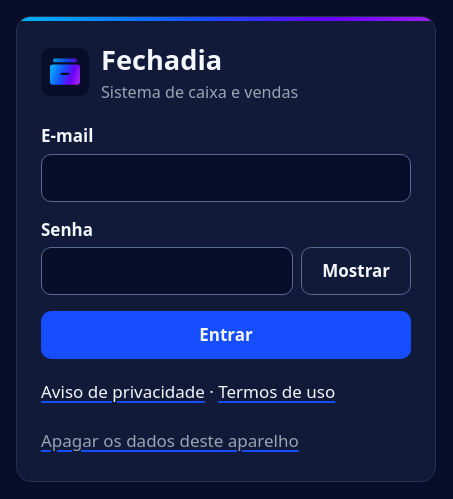
Test: TelaDeLogin › mostra a senha digitada a quem toca em Mostrar, e a esconde de novo
Type "abc" into the password field labelled "Senha". click: coordinates (167, 271)
box: [41,247,293,295]
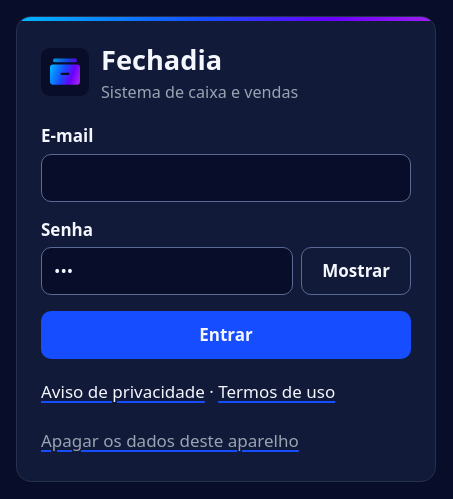
Click the button "Mostrar". click: coordinates (356, 271)
box: [301,247,411,295]
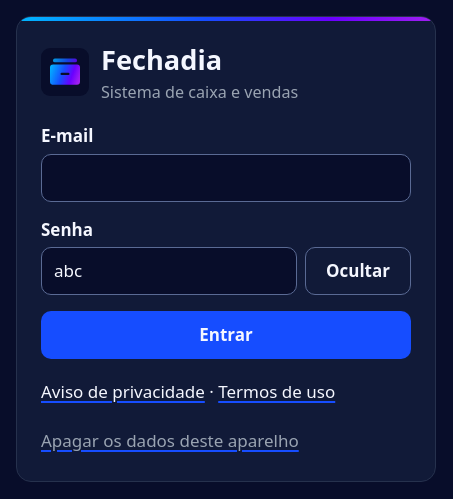
Expected: the field labelled "Senha" shows its text, [41,247,297,295]
Click the button "Ocultar". click: coordinates (358, 271)
box: [305,247,411,295]
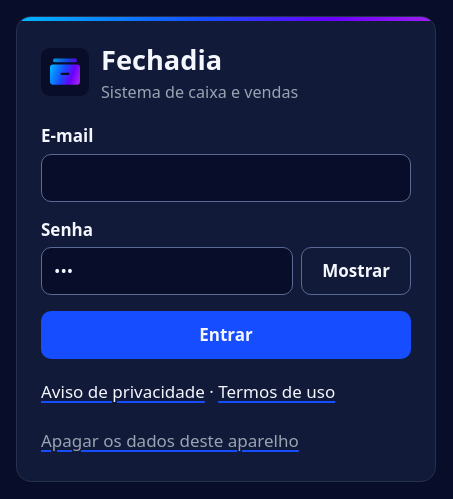
Expected: the password field labelled "Senha" hides its text, [41,247,293,295]
